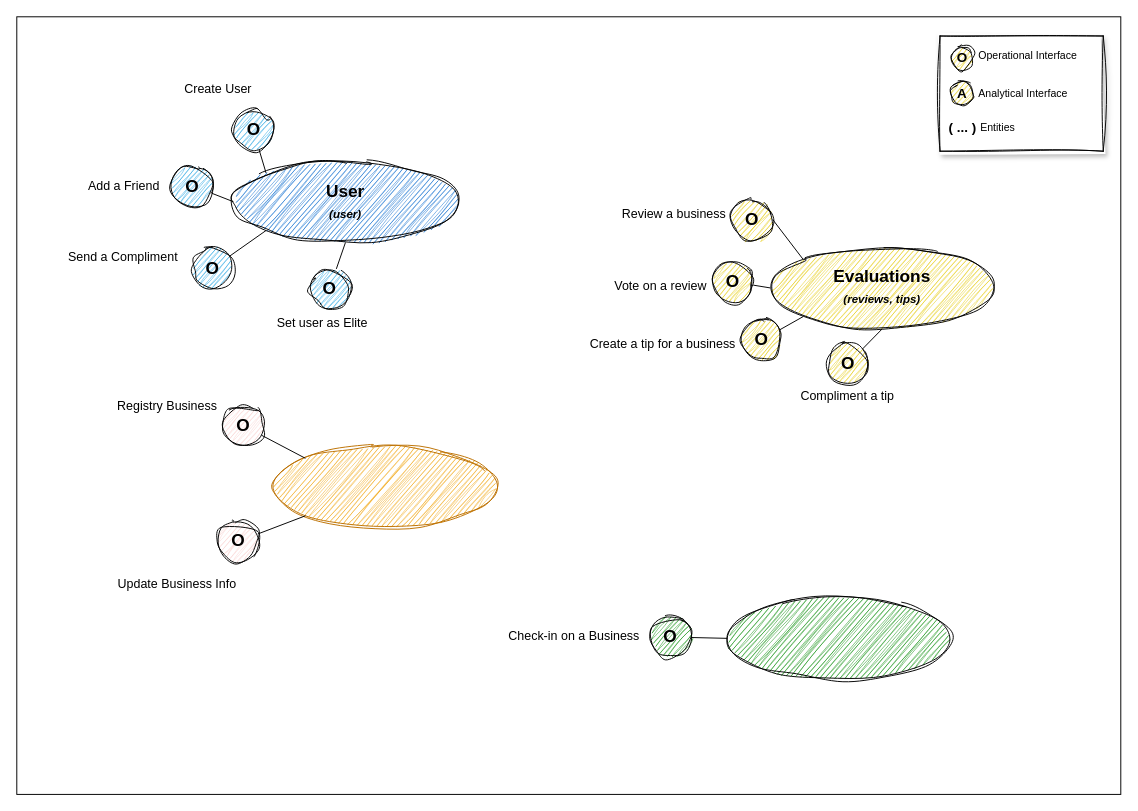
This 1138x811 diagram has some shape labels left out. The centre of each missing label's shape, as x and y in pixels:
Business (business): (x=384, y=486)
Check-in (checkins): (x=838, y=638)
